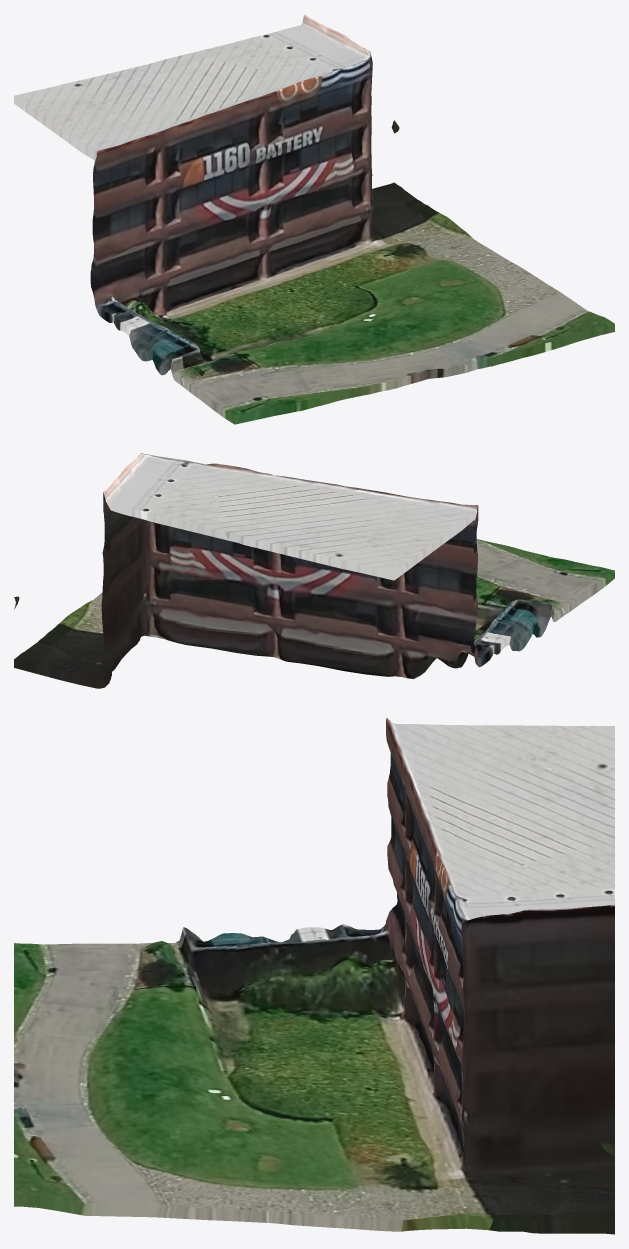
Rendered from z20-167770-405197-h0-yup-uvflip-v3-world.glb.
3 views of the same model, one above another, from view 1: azimuth 30°, elevation 25°; view 2: azimuth 150°, elevation 25°; view 3: azimuth 270°, elevation 25° (orthographic). The views are drawn at different scales.
Bounding box in the file's own units: 30.16 × 15.16 × 30.32.
Materials: 1 (1 with a texture image).
